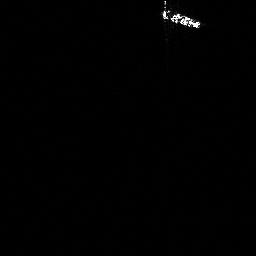ship: (162, 1, 201, 30)
